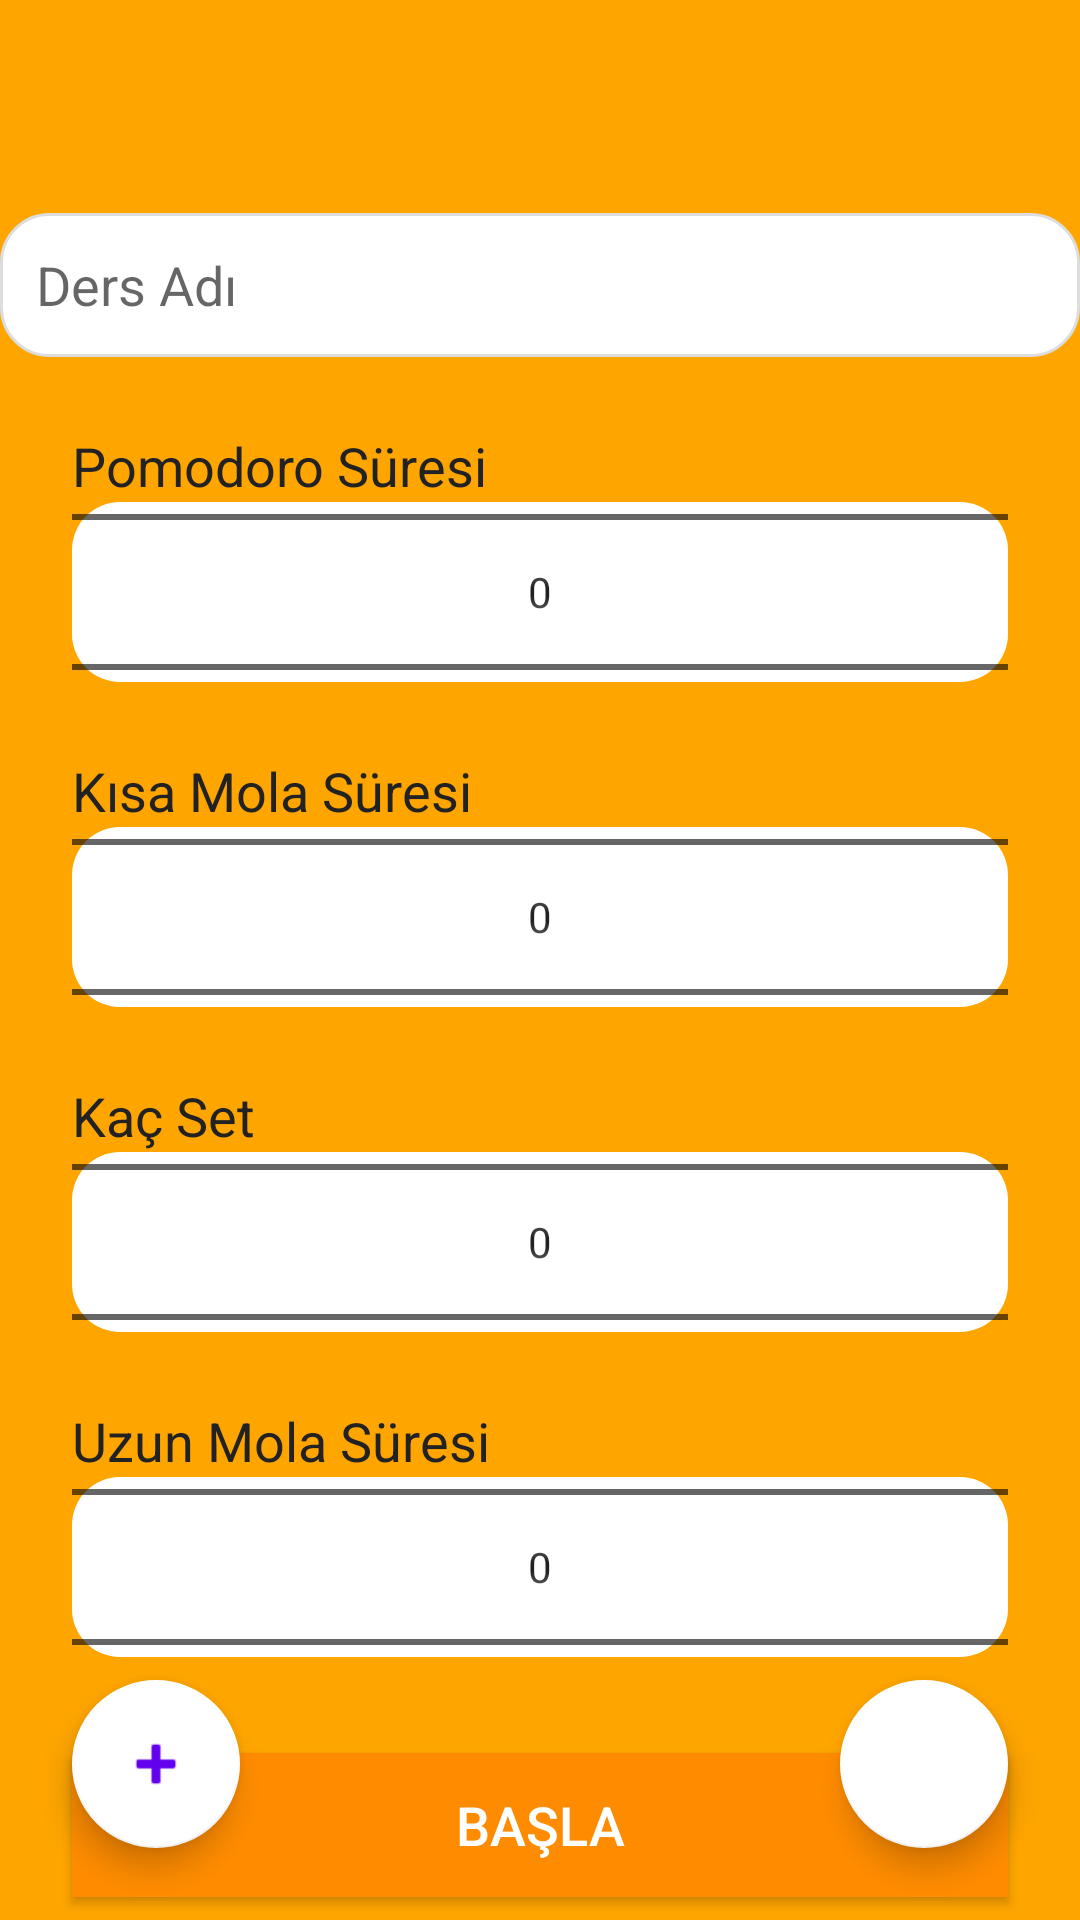

Where to tap for icons on this 1080w x 1920h app screen, as (x,y):
add: (156,1764)
